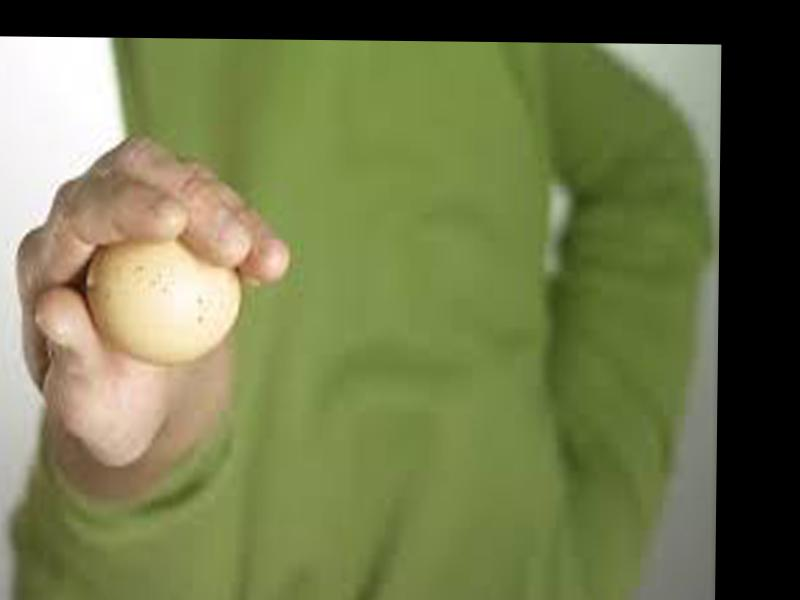Eggs: (86, 236, 242, 363)
